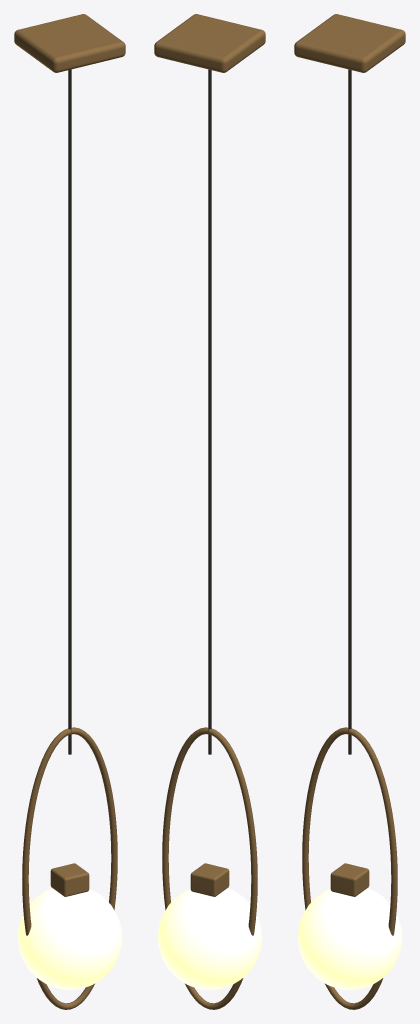
Rendered from reference-bedside-pendant.glb.
The picture shows the model from 3 angles, left to right: view 1: azimuth 30°, elevation 25°; view 2: azimuth 150°, elevation 25°; view 3: azimuth 330°, elevation 25°; orthographic projection.
Parts seen in each view (by area): view 1: Opal globe, Ceiling canopy, Bronze oval pendant, Slender suspension, Bronze socket; view 2: Opal globe, Ceiling canopy, Bronze oval pendant, Slender suspension, Bronze socket; view 3: Opal globe, Ceiling canopy, Bronze oval pendant, Slender suspension, Bronze socket.
Boxes of the visible parts, x1,y1,x2,y2 form: Opal globe: (18, 888, 121, 989); Ceiling canopy: (14, 14, 125, 72); Bronze oval pendant: (22, 727, 117, 1009); Slender suspension: (68, 69, 71, 754); Bronze socket: (50, 863, 89, 896); Opal globe: (158, 888, 261, 989); Ceiling canopy: (154, 14, 265, 72); Bronze oval pendant: (162, 727, 257, 1009); Slender suspension: (208, 69, 211, 754); Bronze socket: (190, 863, 229, 896); Opal globe: (298, 888, 401, 989); Ceiling canopy: (294, 14, 405, 72); Bronze oval pendant: (302, 727, 397, 1009); Slender suspension: (348, 69, 351, 754); Bronze socket: (330, 863, 369, 896).
Bounding box in the file's own units: 0.1296 × 1.27 × 0.124.
